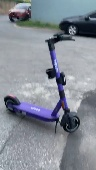beam: (1, 31, 82, 136)
